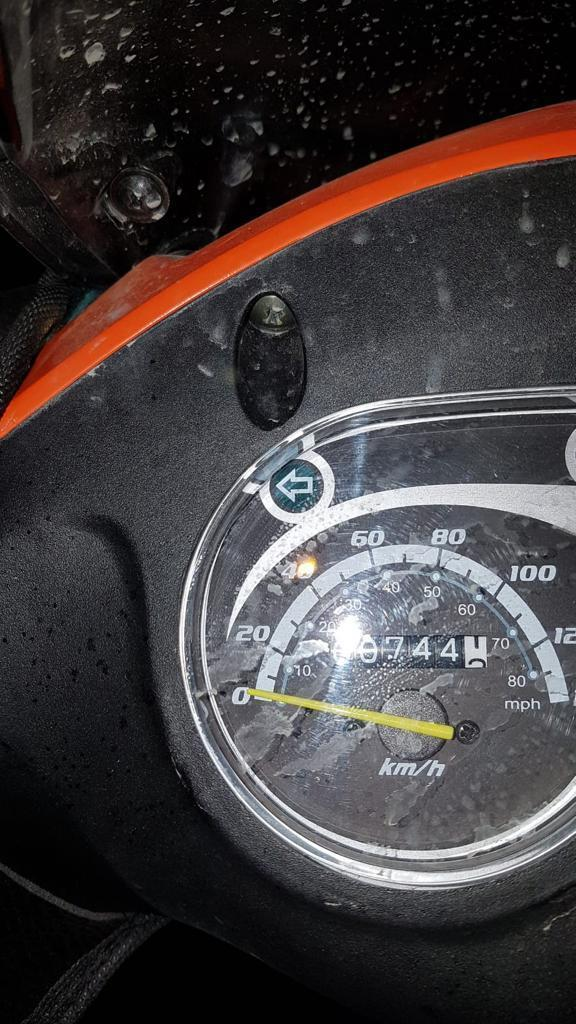0: (358, 638, 377, 663)
1: (473, 630, 479, 650)
4: (411, 636, 431, 660), (439, 637, 458, 661)
7: (385, 636, 404, 659)
odometer: (325, 633, 488, 670)
